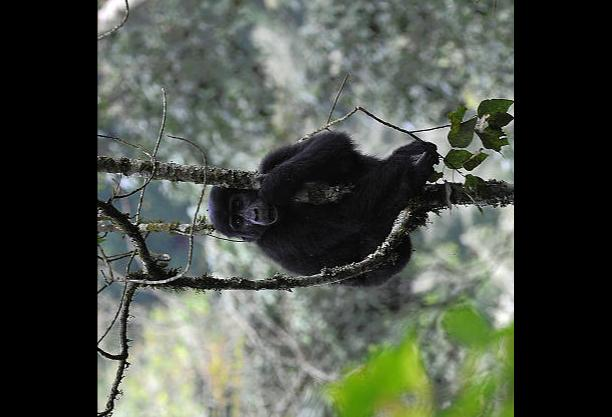goriile_montagne: (202, 107, 456, 286)
